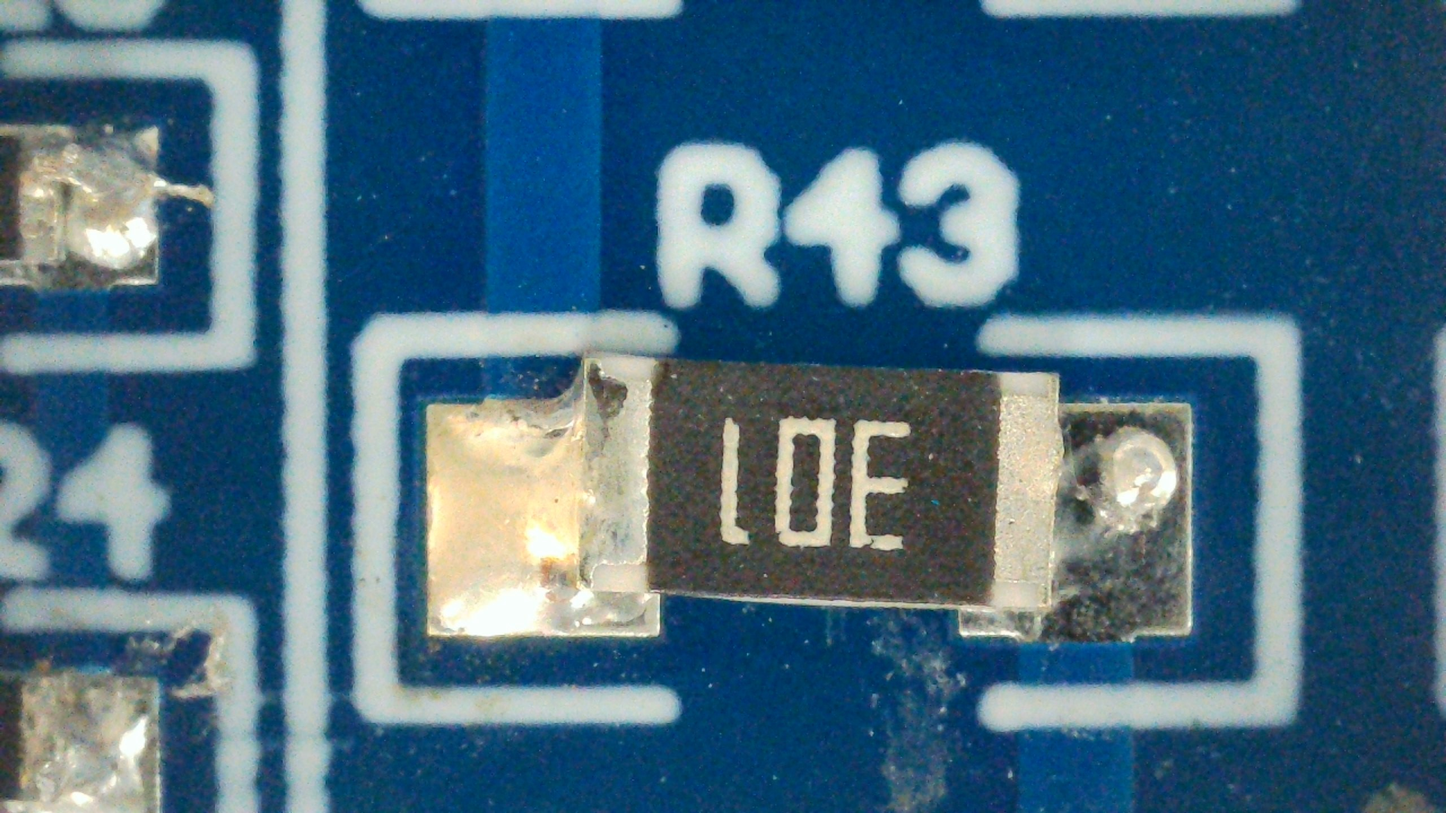NG: (427, 349, 1190, 645)
